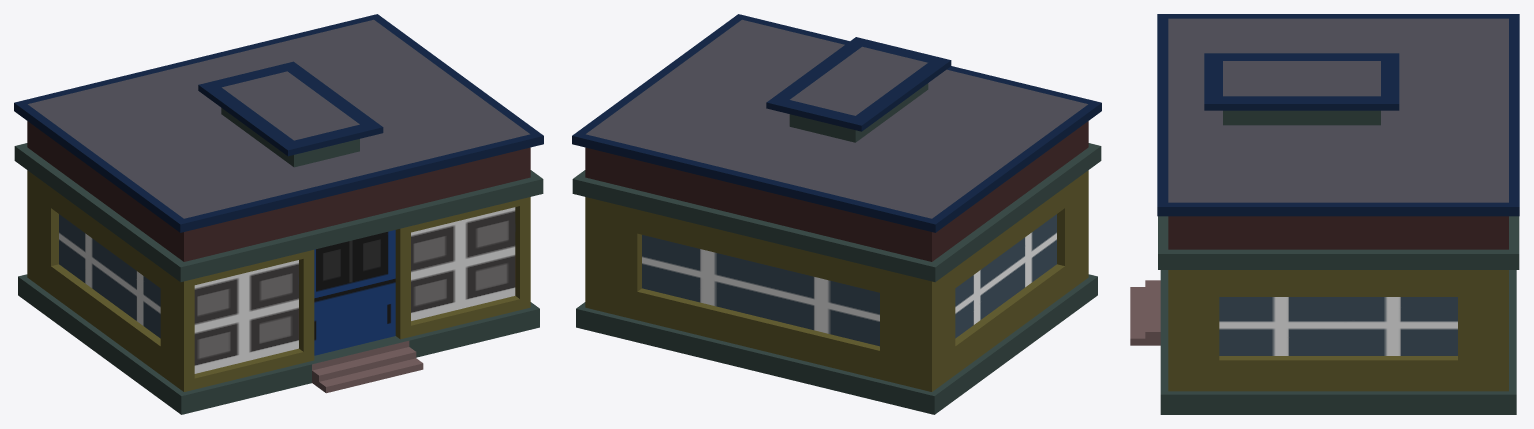
Rendered from building13b.FBX.
3 renders of one model, left to right at view 1: azimuth 30°, elevation 25°; view 2: azimuth 150°, elevation 25°; view 3: azimuth 270°, elevation 25°, orthographic. The views are drawn at different scales.
Parts seen in each view (by area): view 1: building13b; view 2: building13b; view 3: building13b.
Part boxes in pixels (box(x1,y1,x2,y2)): building13b: box(14, 14, 543, 414); building13b: box(572, 14, 1101, 414); building13b: box(1130, 14, 1519, 414).
Size of the model in its own units: 16.08 by 9.25 by 13.71.
